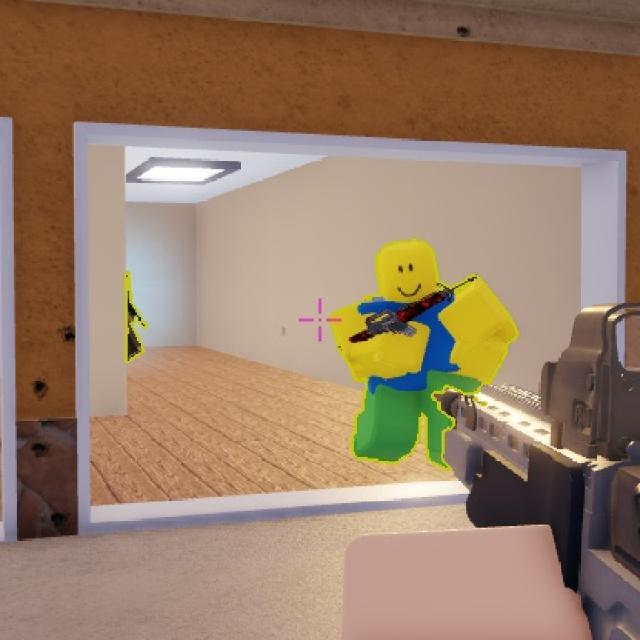player: (374, 228, 438, 461)
